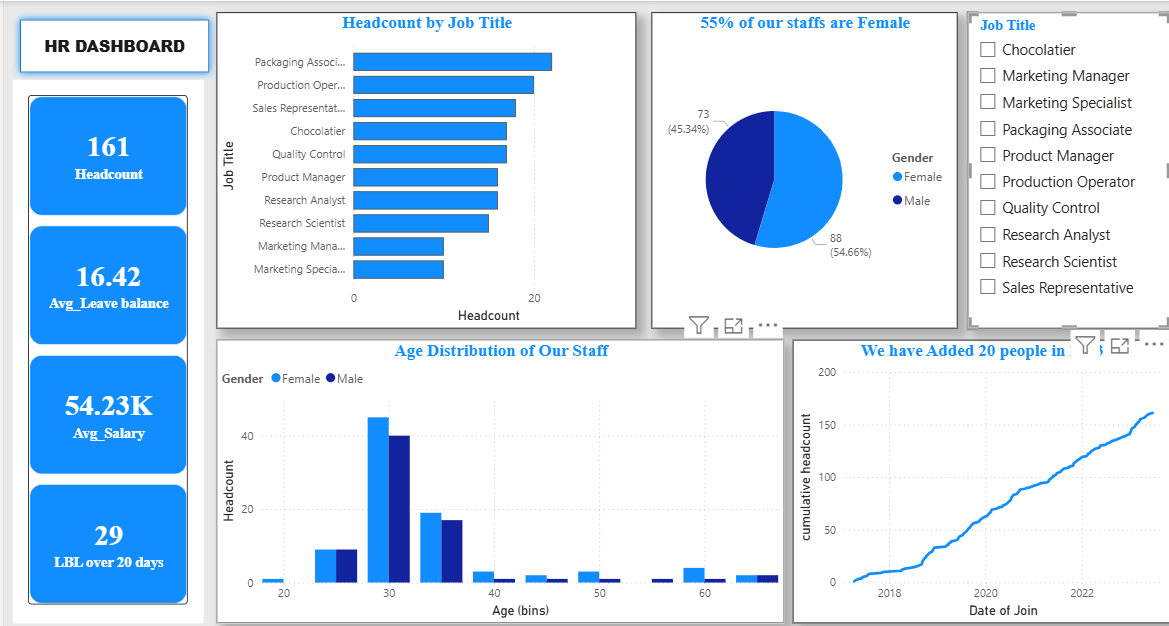

This screenshot's page, from the dashboard's own definition file:
{"tool":"powerbi","page":{"name":"Page 7","canvas":[1280,720],"ordinal":0},"visuals":[{"type":"cardVisual","fields":{"Data":["hrdata emptable.Headcount","hrdata emptable.Avg_Leave balance","hrdata emptable.Avg_Salary","hrdata emptable.LBL over 20 days"]},"box":[9.6,86.4,209.9,596.9],"z":0},{"type":"clusteredBarChart","title":"Headcount by Job Title","fields":{"Category":["hrdata emptable.Job Title"],"Y":["hrdata emptable.Headcount"]},"box":[233.3,12.3,461.1,347.2],"z":1000},{"type":"pieChart","title":"55% of our staffs are Female","fields":{"Category":["hrdata emptable.Gender"],"Y":["hrdata emptable.Headcount"]},"box":[710.8,12.3,336.2,347.2],"z":2000},{"type":"clusteredColumnChart","title":"Age Distribution of Our Staff","fields":{"Y":["hrdata emptable.Headcount"],"Category":["hrdata emptable.Age (bins)"],"Series":["hrdata emptable.Gender"]},"box":[233.3,371.9,623,311.5],"z":3000},{"type":"lineChart","title":"We have Added 20 people in 2023","fields":{"Category":["hrdata emptable.Date of Join"],"Y":["hrdata emptable.cumulative headcount"]},"box":[865.9,371.9,414.4,311.5],"z":4000},{"type":"slicer","fields":{"Values":["hrdata emptable.Job Title"]},"box":[1058,12.3,222.3,347.2],"z":5000},{"type":"shape","box":[9.6,12.3,223.7,74.1],"z":6000}]}

Visuals, with their boxes on the page's 1280x720 design canvas (x1, y1, x2, y2). These are canvas units, not pixel positions in the 1169x626 screenshot, which may show the page scaled, cropped or inside an application window:
cardVisual - hrdata emptable.Headcount x hrdata emptable.Avg_Leave balance: [x1=10, y1=86, x2=220, y2=683]
"Headcount by Job Title" clusteredBarChart: [x1=233, y1=12, x2=694, y2=360]
"55% of our staffs are Female" pieChart: [x1=711, y1=12, x2=1047, y2=360]
"Age Distribution of Our Staff" clusteredColumnChart: [x1=233, y1=372, x2=856, y2=683]
"We have Added 20 people in 2023" lineChart: [x1=866, y1=372, x2=1280, y2=683]
slicer - hrdata emptable.Job Title: [x1=1058, y1=12, x2=1280, y2=360]
shape: [x1=10, y1=12, x2=233, y2=86]
